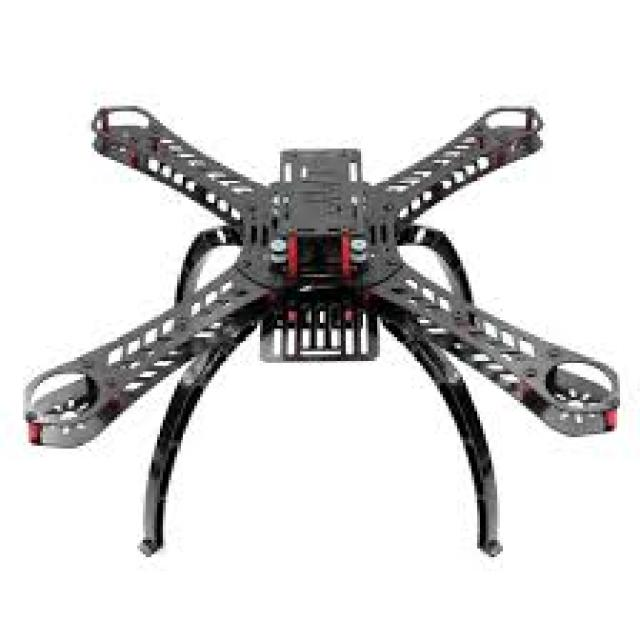drone: (30, 90, 630, 556)
